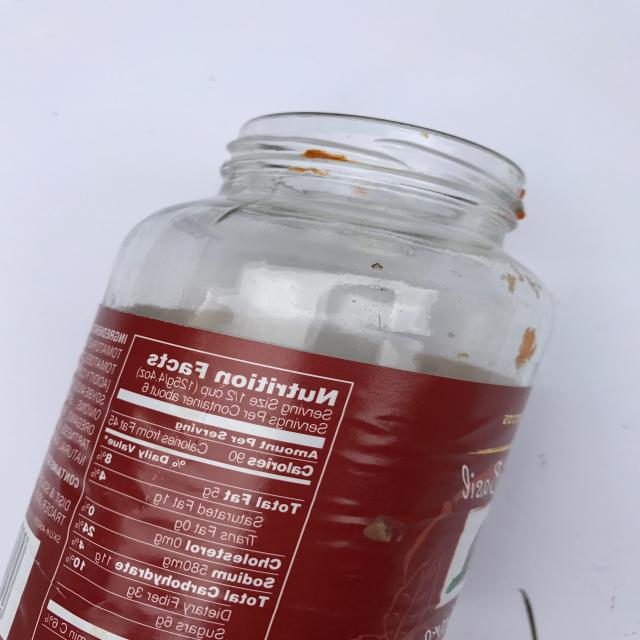glass: (0, 111, 556, 640)
